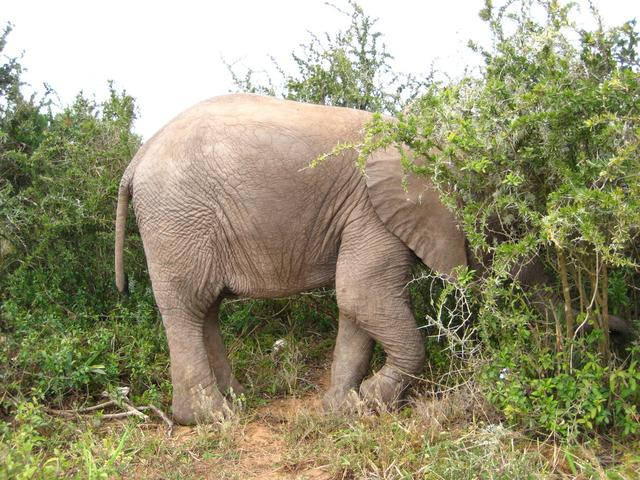elephant: (71, 48, 533, 451)
